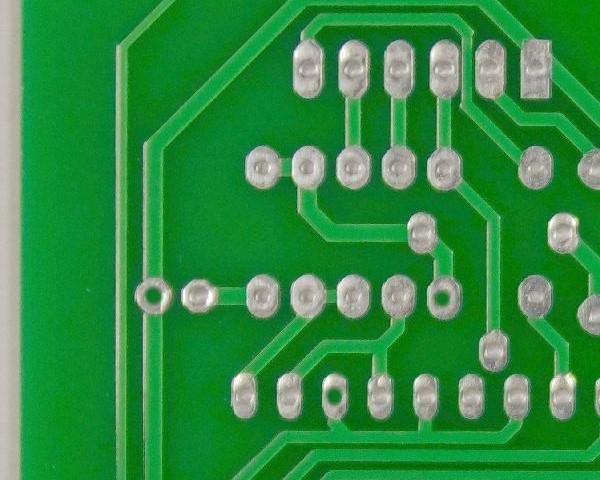missing hole: (421, 271, 467, 322), (316, 368, 355, 425), (130, 274, 178, 317)
